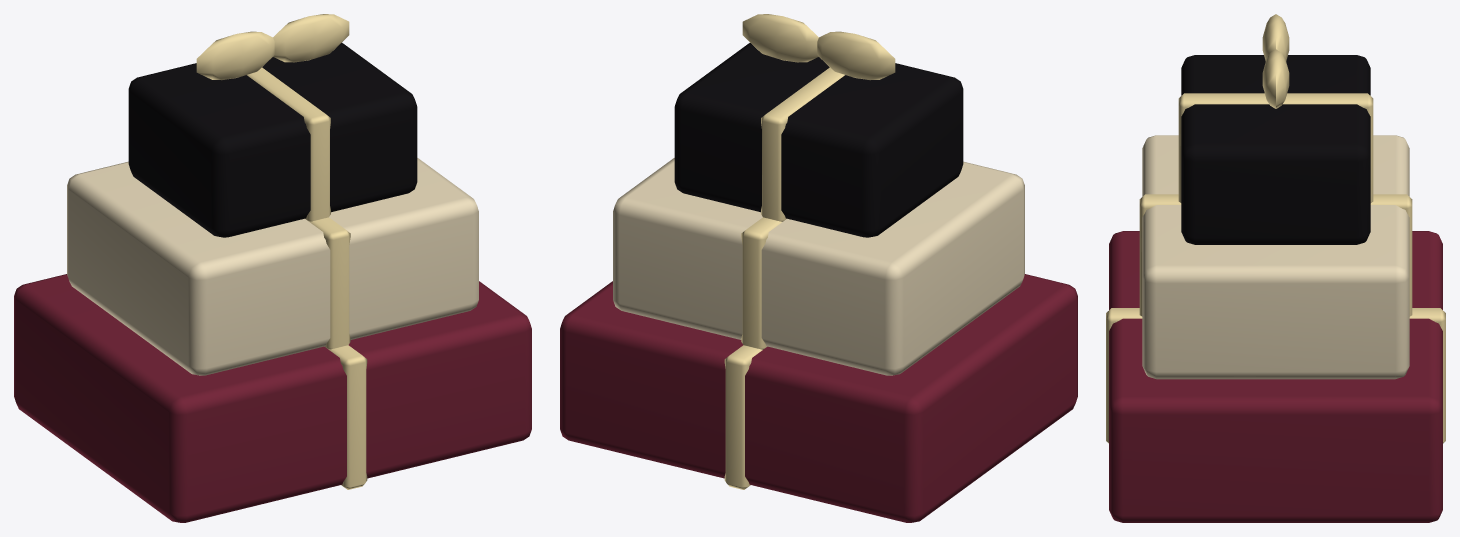
Rendered from gift_box_stack.glb.
3 views of the same model, side by side, from view 1: azimuth 30°, elevation 25°; view 2: azimuth 150°, elevation 25°; view 3: azimuth 270°, elevation 25° (orthographic).
Visible parts, largest first — view 1: gift_box_stack; view 2: gift_box_stack; view 3: gift_box_stack.
Part boxes in pixels (left/top/right/bottom): gift_box_stack: left=14, top=14, right=531, bottom=522; gift_box_stack: left=560, top=14, right=1077, bottom=522; gift_box_stack: left=1106, top=14, right=1445, bottom=522.
Bounding box in the file's own units: 0.3 × 0.3195 × 0.244.
